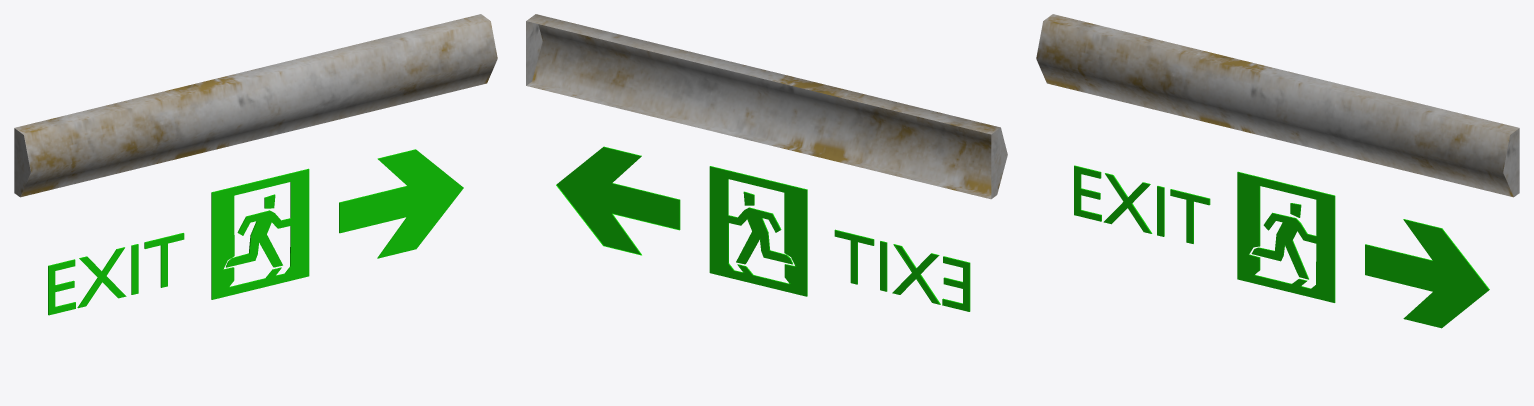
The model's file is Exit_Sign_2.fbx.
3 views of the same model, side by side, from view 1: azimuth 30°, elevation 25°; view 2: azimuth 150°, elevation 25°; view 3: azimuth 330°, elevation 25° (orthographic).
Parts seen in each view (by area): view 1: Cube, Plane, Plane.001, Plane.002; view 2: Cube, Plane, Plane.001, Plane.002; view 3: Cube, Plane, Plane.001, Plane.002.
Part boxes in pixels (box(x1,y1,x2,y2)): Cube: box(14, 14, 497, 197); Plane: box(211, 168, 309, 299); Plane.001: box(339, 149, 463, 258); Plane.002: box(48, 233, 184, 315); Cube: box(526, 14, 1007, 199); Plane: box(709, 166, 807, 296); Plane.001: box(556, 146, 680, 255); Plane.002: box(834, 229, 970, 311); Cube: box(1036, 14, 1519, 197); Plane: box(1237, 171, 1335, 302); Plane.001: box(1365, 219, 1489, 328); Plane.002: box(1074, 165, 1210, 243).
Size of the model in its own units: 409 by 219 by 25.32.
2 materials, 1 textured.
